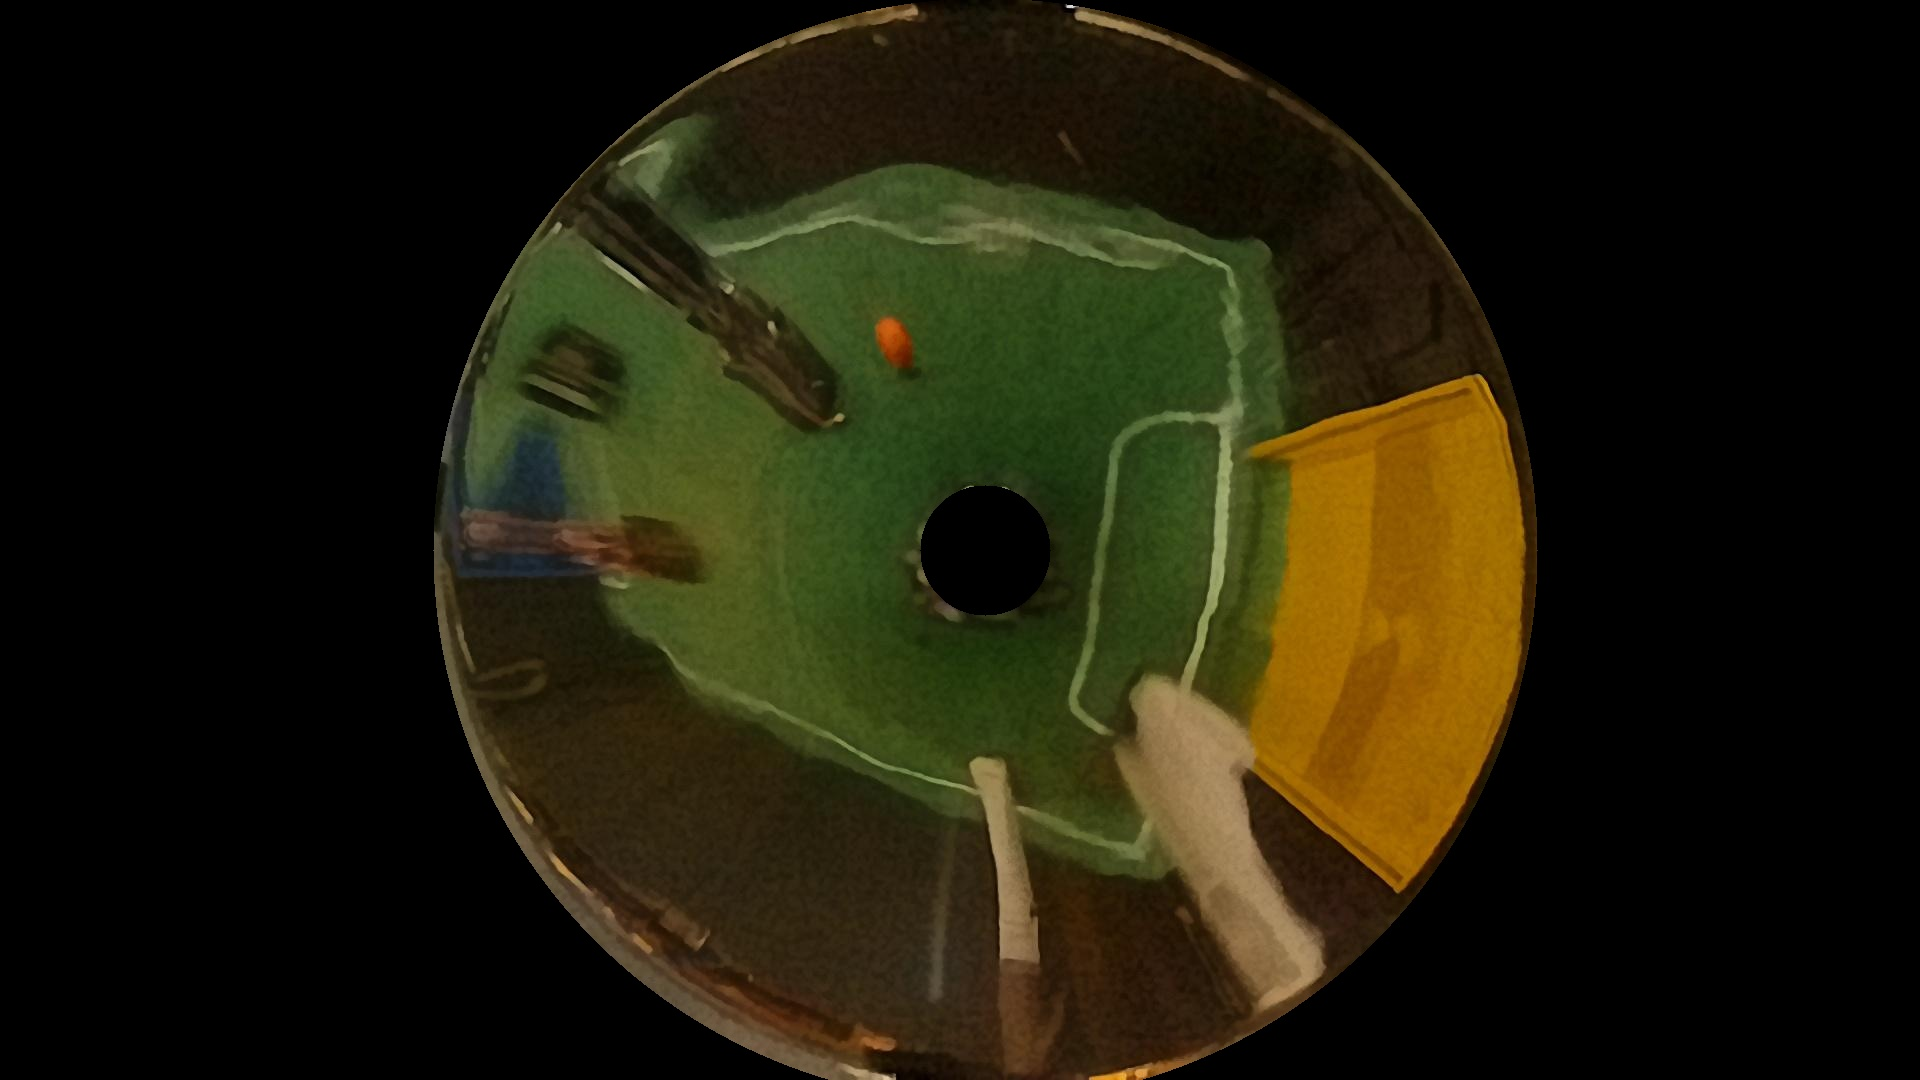ball: (877, 318, 907, 360)
blue-goal: (447, 438, 585, 587)
robots: (568, 183, 839, 434), (476, 517, 709, 583), (522, 332, 615, 409)
yellow-goal: (1254, 381, 1523, 895)
